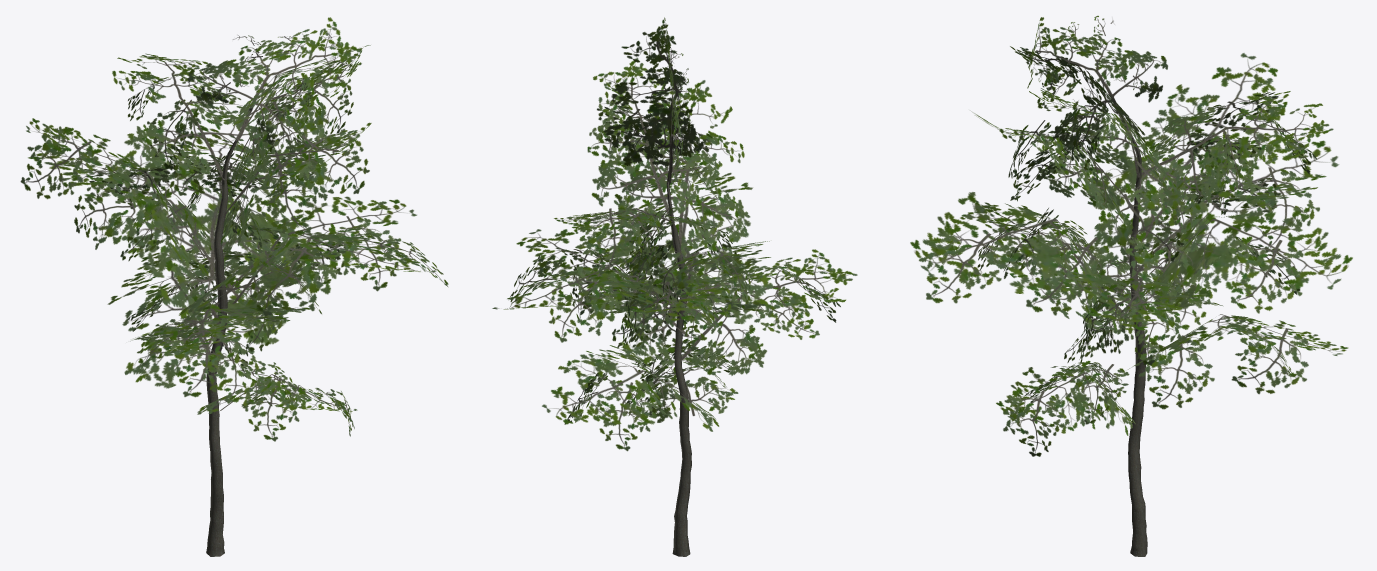
The model's file is oak_small_2.glb.
3 renders of one model, left to right at view 1: azimuth 30°, elevation 25°; view 2: azimuth 150°, elevation 25°; view 3: azimuth 270°, elevation 25°, orthographic. The views are drawn at different scales.
Visible parts, largest first — view 1: Small_oak_tree__002_LOD1; view 2: Small_oak_tree__002_LOD1; view 3: Small_oak_tree__002_LOD1.
Boxes of the visible parts, <box> form: Small_oak_tree__002_LOD1: <box>20,17,448,556</box>; Small_oak_tree__002_LOD1: <box>492,17,857,556</box>; Small_oak_tree__002_LOD1: <box>910,15,1352,556</box>.
Size of the model in its own units: 3.42 by 5.39 by 3.94.
Materials: 2 (2 with a texture image).
